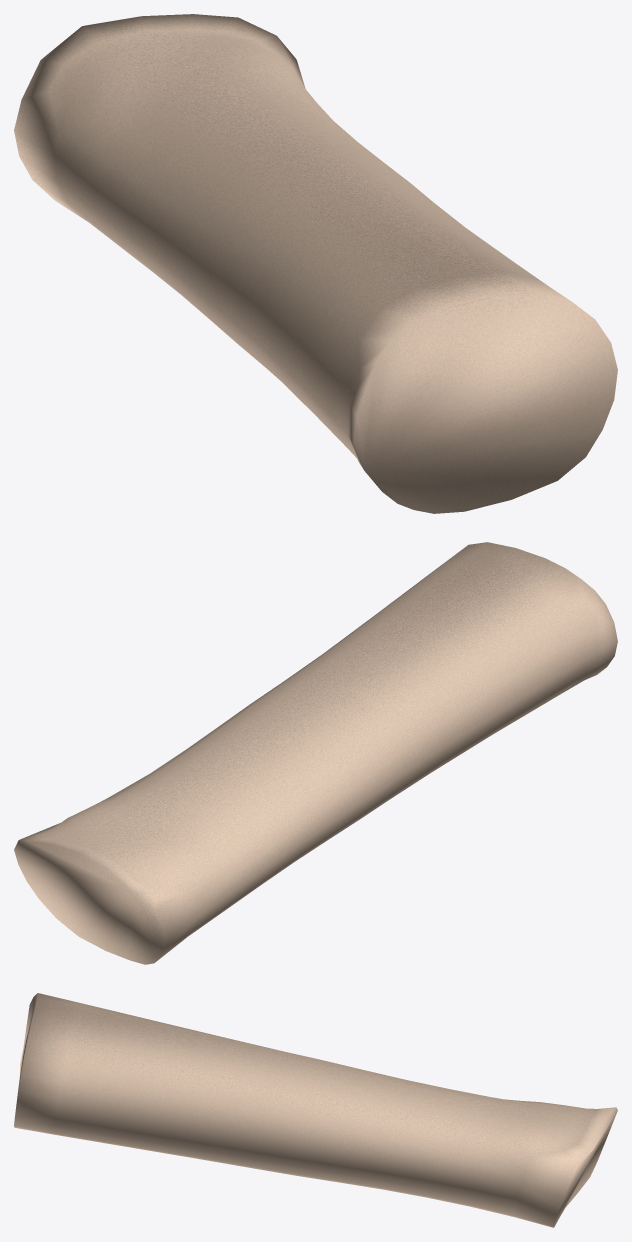
File: r_forearm.obj
The picture shows the model from 3 angles, top to bottom: view 1: azimuth 30°, elevation 25°; view 2: azimuth 150°, elevation 25°; view 3: azimuth 270°, elevation 25°; orthographic projection. The views are drawn at different scales.
Parts seen in each view (by area): view 1: l_forearm.001_Cube.001; view 2: l_forearm.001_Cube.001; view 3: l_forearm.001_Cube.001.
Boxes of the visible parts, x1,y1,x2,y2 form: l_forearm.001_Cube.001: (14, 14, 617, 513); l_forearm.001_Cube.001: (14, 542, 617, 964); l_forearm.001_Cube.001: (14, 993, 617, 1227).
Size of the model in its own units: 0.0947 by 0.0643 by 0.2074.
Materials: 1 (1 with a texture image).
